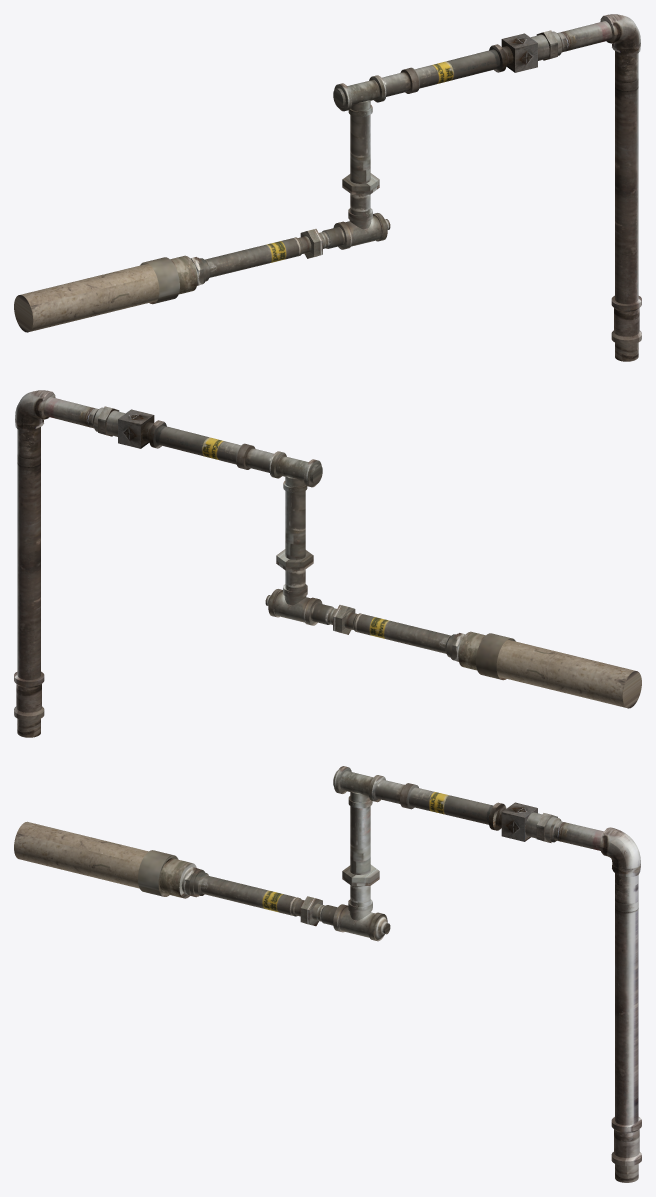
File: MEDIUM S. METAL.fbx
The picture shows the model from 3 angles, top to bottom: view 1: azimuth 30°, elevation 25°; view 2: azimuth 150°, elevation 25°; view 3: azimuth 330°, elevation 25°; orthographic projection.
Parts seen in each view (by area): view 1: MEDIUM S. METAL.001; view 2: MEDIUM S. METAL.001; view 3: MEDIUM S. METAL.001.
Part boxes in pixels (bbox=[...]): MEDIUM S. METAL.001: bbox=[14, 14, 641, 361]; MEDIUM S. METAL.001: bbox=[14, 390, 641, 737]; MEDIUM S. METAL.001: bbox=[14, 766, 641, 1182].
Bounding box in the file's own units: 19.26 × 10.3 × 1.16.
